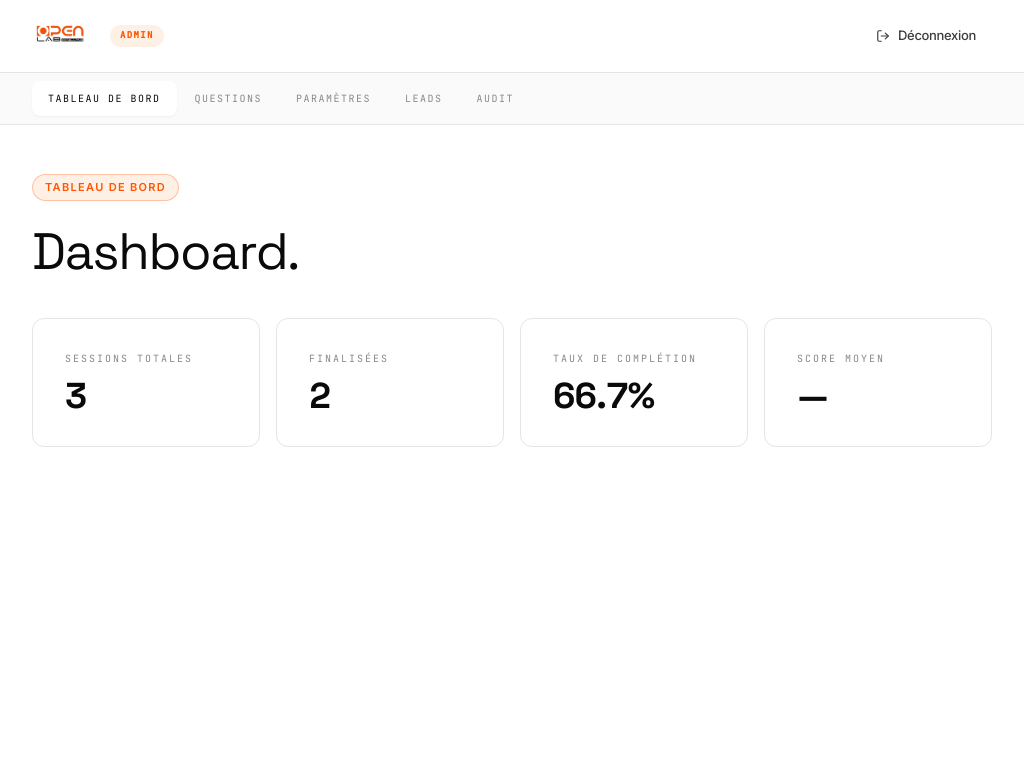
Test: AdminDashboard — Questions tab › ouvre la modale d'édition au clic sur Modifier
Check: the text "3" is shown, box [65,373,87,419]
Click the button "Questions".
click(228, 98)  # box [178,81,278,116]
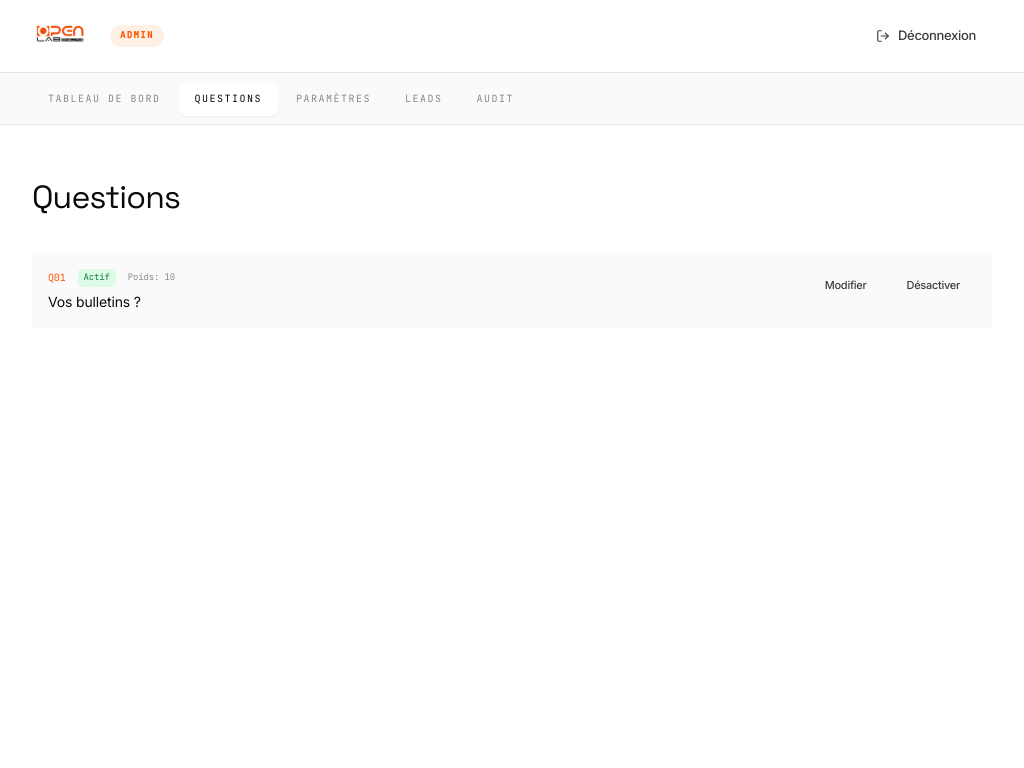
Check: the text "Vos bulletins ?" is shown, box [48,292,141,310]
Click the button "Modifier".
click(846, 285)  # box [809,269,882,302]
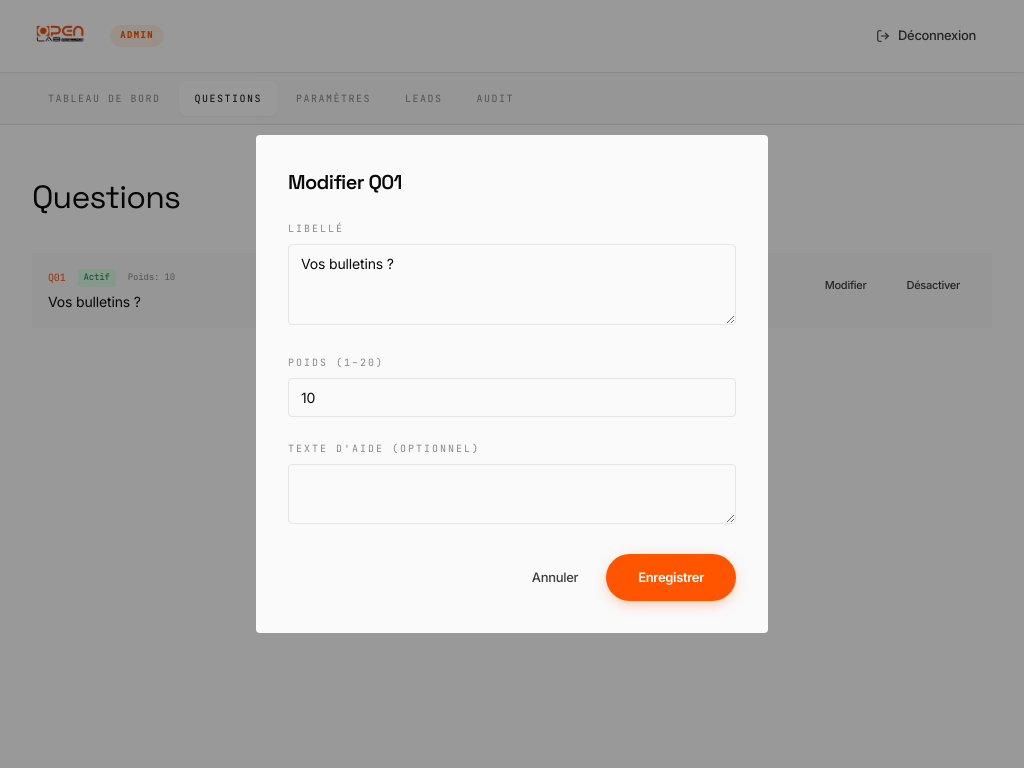
Check: the dialog is shown
